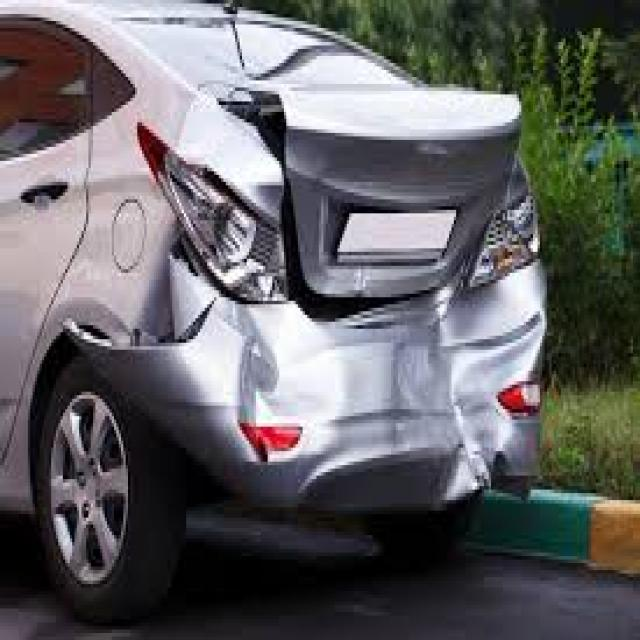moderate: (119, 20, 564, 541)
